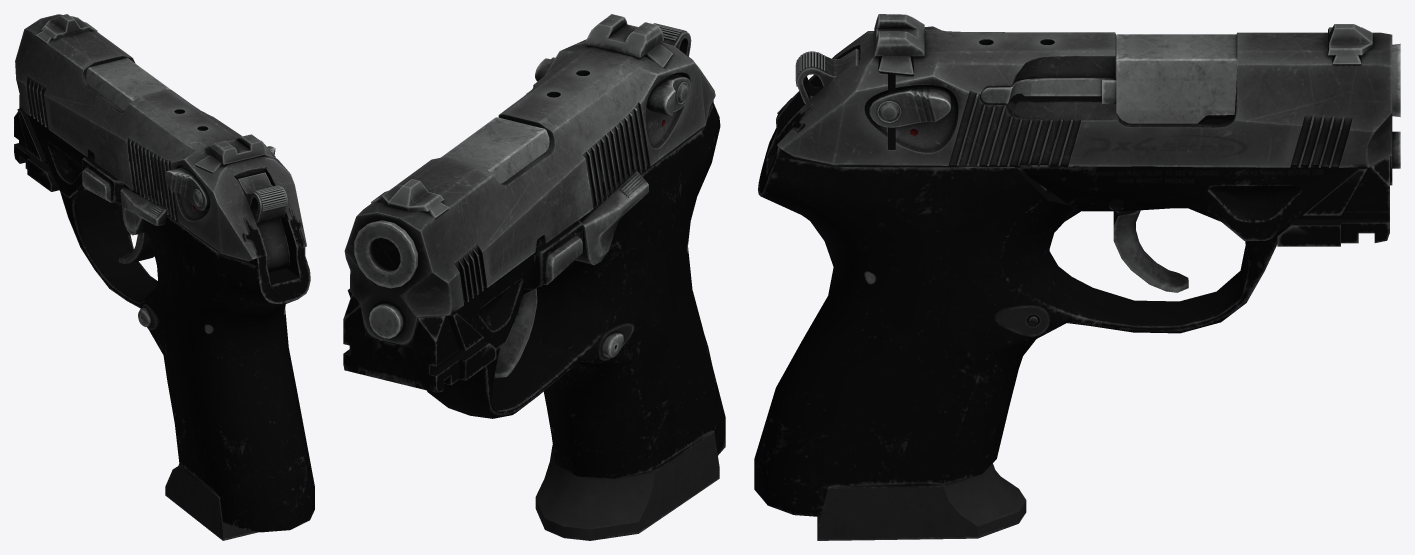
3 views of the same model, side by side, from view 1: azimuth 30°, elevation 25°; view 2: azimuth 150°, elevation 25°; view 3: azimuth 270°, elevation 25° (orthographic). The views are drawn at different scales.
Bounding box in the file's own units: 1.55 × 5.28 × 6.35.
1 material, 1 textured.
